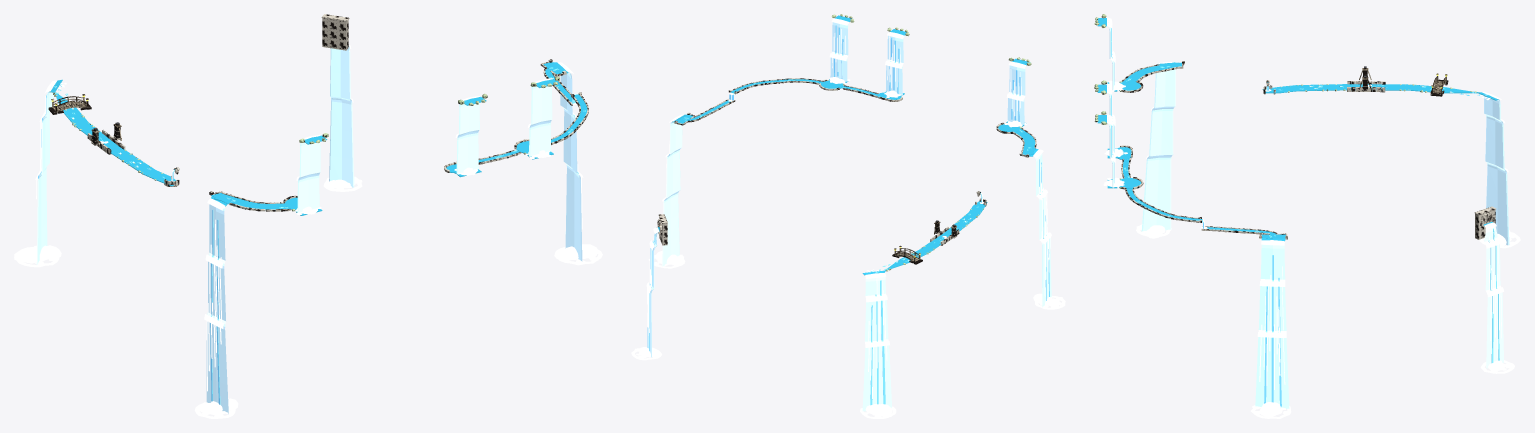
Rendered from ILHA1_06_WATER_0e14b4.fbx.
3 views of the same model, side by side, from view 1: azimuth 30°, elevation 25°; view 2: azimuth 150°, elevation 25°; view 3: azimuth 270°, elevation 25° (orthographic). The views are drawn at different scales.
Visible parts, largest first — view 1: WATER_SeaFalls__Water_WtrSheet, WATER_BackFalls__Water_WtrSheet, WATER_SeaFalls__Foam_g15_11, WATER_Canal_East__Water, WATER_SeaFalls__Foam_g15_13, WATER_SeaFalls__Stone_Wall_Dark, WATER_BackFalls__Water, WATER_SeaFalls__Foam_g17_12, WATER_SeaFalls__Water_WtrFall, WATER_Canal_West__Water, WATER_Canal_East__Stone_Wall_Light; view 2: WATER_SeaFalls__Water_WtrSheet, WATER_BackFalls__Water_WtrSheet, WATER_SeaFalls__Foam_g15_13, WATER_SeaFalls__Water_WtrFall, WATER_Canal_East__Water, WATER_SeaFalls__Foam_g15_11, WATER_BackFalls__Foam_g16_11, WATER_BackFalls__Water_WtrFall, WATER_BackFalls__Water, WATER_SeaFalls__Foam_g16_13, WATER_BackFalls__Foam_g15_11, WATER_SeaFalls__Foam_g17_12 (+2 smaller); view 3: WATER_SeaFalls__Water_WtrSheet, WATER_SeaFalls__Foam_g17_12, WATER_Canal_East__Water, WATER_SeaFalls__Water_WtrFall, WATER_SeaFalls__Foam_g16_13, WATER_BackFalls__Water, WATER_Canal_West__Water, WATER_BackFalls__Foam_g16_11, WATER_Canal_West__Stone_Wall_Light, WATER_Canal_East__Stone_Wall_Light, WATER_BackFalls__Water_WtrSheet, WATER_SeaFalls__Stone_Wall_Dark.
Boxes of the visible parts, x1,y1,x2,y2 form: WATER_SeaFalls__Water_WtrSheet: (36, 46, 582, 413); WATER_BackFalls__Water_WtrSheet: (297, 79, 552, 212); WATER_SeaFalls__Foam_g15_11: (194, 198, 238, 418); WATER_Canal_East__Water: (53, 91, 289, 209); WATER_SeaFalls__Foam_g15_13: (14, 80, 61, 267); WATER_SeaFalls__Stone_Wall_Dark: (321, 14, 349, 50); WATER_BackFalls__Water: (284, 79, 558, 215); WATER_SeaFalls__Foam_g17_12: (554, 62, 602, 265); WATER_SeaFalls__Water_WtrFall: (38, 95, 578, 404); WATER_Canal_West__Water: (543, 62, 587, 142); WATER_Canal_East__Stone_Wall_Light: (87, 130, 290, 211); WATER_SeaFalls__Water_WtrSheet: (648, 116, 1051, 411); WATER_BackFalls__Water_WtrSheet: (830, 19, 1025, 124); WATER_SeaFalls__Foam_g15_13: (860, 273, 896, 418); WATER_SeaFalls__Water_WtrFall: (647, 154, 1049, 405); WATER_Canal_East__Water: (884, 129, 1036, 271); WATER_SeaFalls__Foam_g15_11: (1033, 149, 1065, 309); WATER_BackFalls__Foam_g16_11: (829, 18, 904, 97); WATER_BackFalls__Water_WtrFall: (834, 25, 1020, 121); WATER_BackFalls__Water: (821, 15, 1030, 133); WATER_SeaFalls__Foam_g16_13: (631, 227, 661, 360); WATER_BackFalls__Foam_g15_11: (1004, 61, 1027, 127); WATER_SeaFalls__Foam_g17_12: (648, 114, 685, 268); WATER_SeaFalls__Water_WtrSheet: (1141, 62, 1509, 408); WATER_SeaFalls__Foam_g17_12: (1250, 240, 1291, 418); WATER_Canal_East__Water: (1123, 62, 1479, 93); WATER_SeaFalls__Water_WtrFall: (1264, 228, 1499, 406); WATER_SeaFalls__Foam_g16_13: (1480, 222, 1514, 373); WATER_BackFalls__Water: (1097, 18, 1141, 189); WATER_Canal_West__Water: (1126, 189, 1285, 238); WATER_BackFalls__Foam_g16_11: (1103, 84, 1127, 187); WATER_Canal_West__Stone_Wall_Light: (1125, 188, 1287, 235); WATER_Canal_East__Stone_Wall_Light: (1121, 64, 1385, 92); WATER_BackFalls__Water_WtrSheet: (1108, 20, 1113, 187); WATER_SeaFalls__Stone_Wall_Dark: (1474, 206, 1496, 239).
Bounding box in the file's own units: 325 × 187 × 298.
9 materials, 3 textured.
